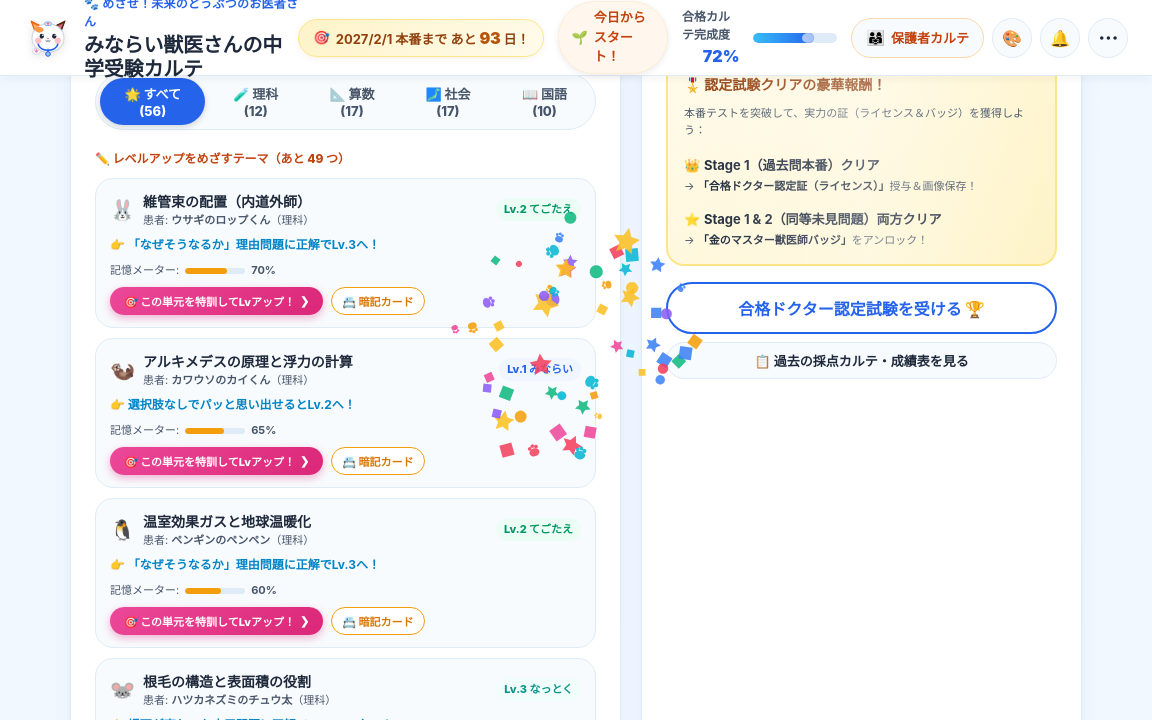
it: UI Redesign & New Features Integration Tests › opens exam history modal from HomePage
(page scrolled)
Click the button with test id "open-exam-history-btn".
click(862, 361)  # box top-left (666, 342), bottom-right (1057, 379)
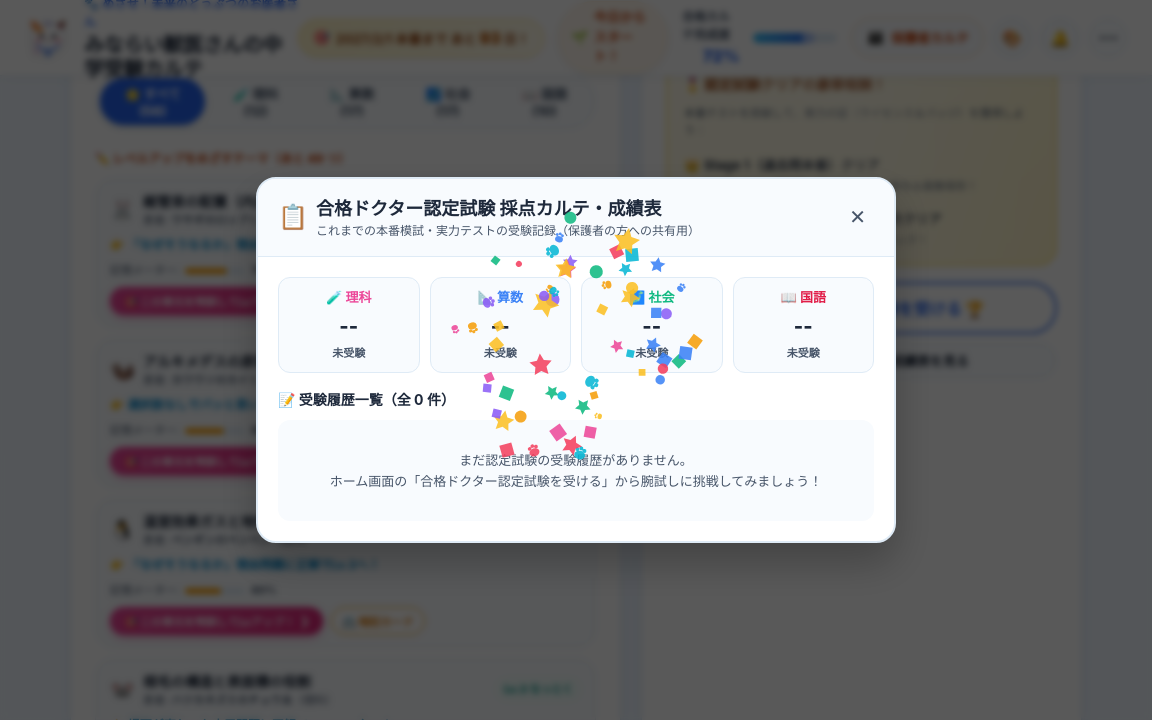
Expected: the element with test id "exam-history-modal" is shown
Expected: the heading "合格ドクター認定試験 採点カルテ・成績表" is shown, top-left (316, 195), bottom-right (700, 222)
